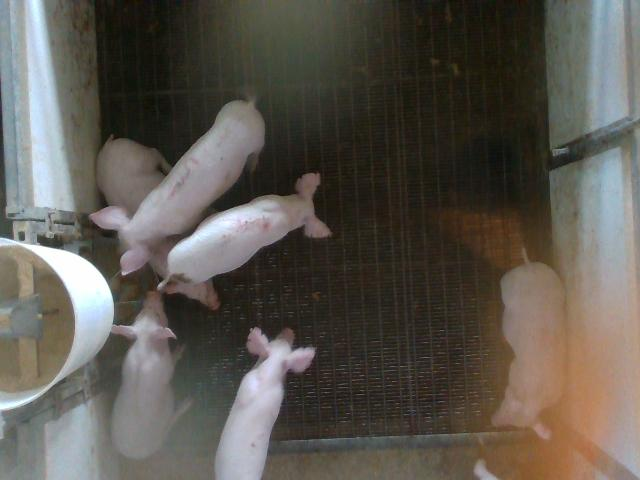pig-3: (90, 102, 265, 274)
pig-4: (491, 248, 566, 439)
pig-5: (160, 174, 329, 288)
